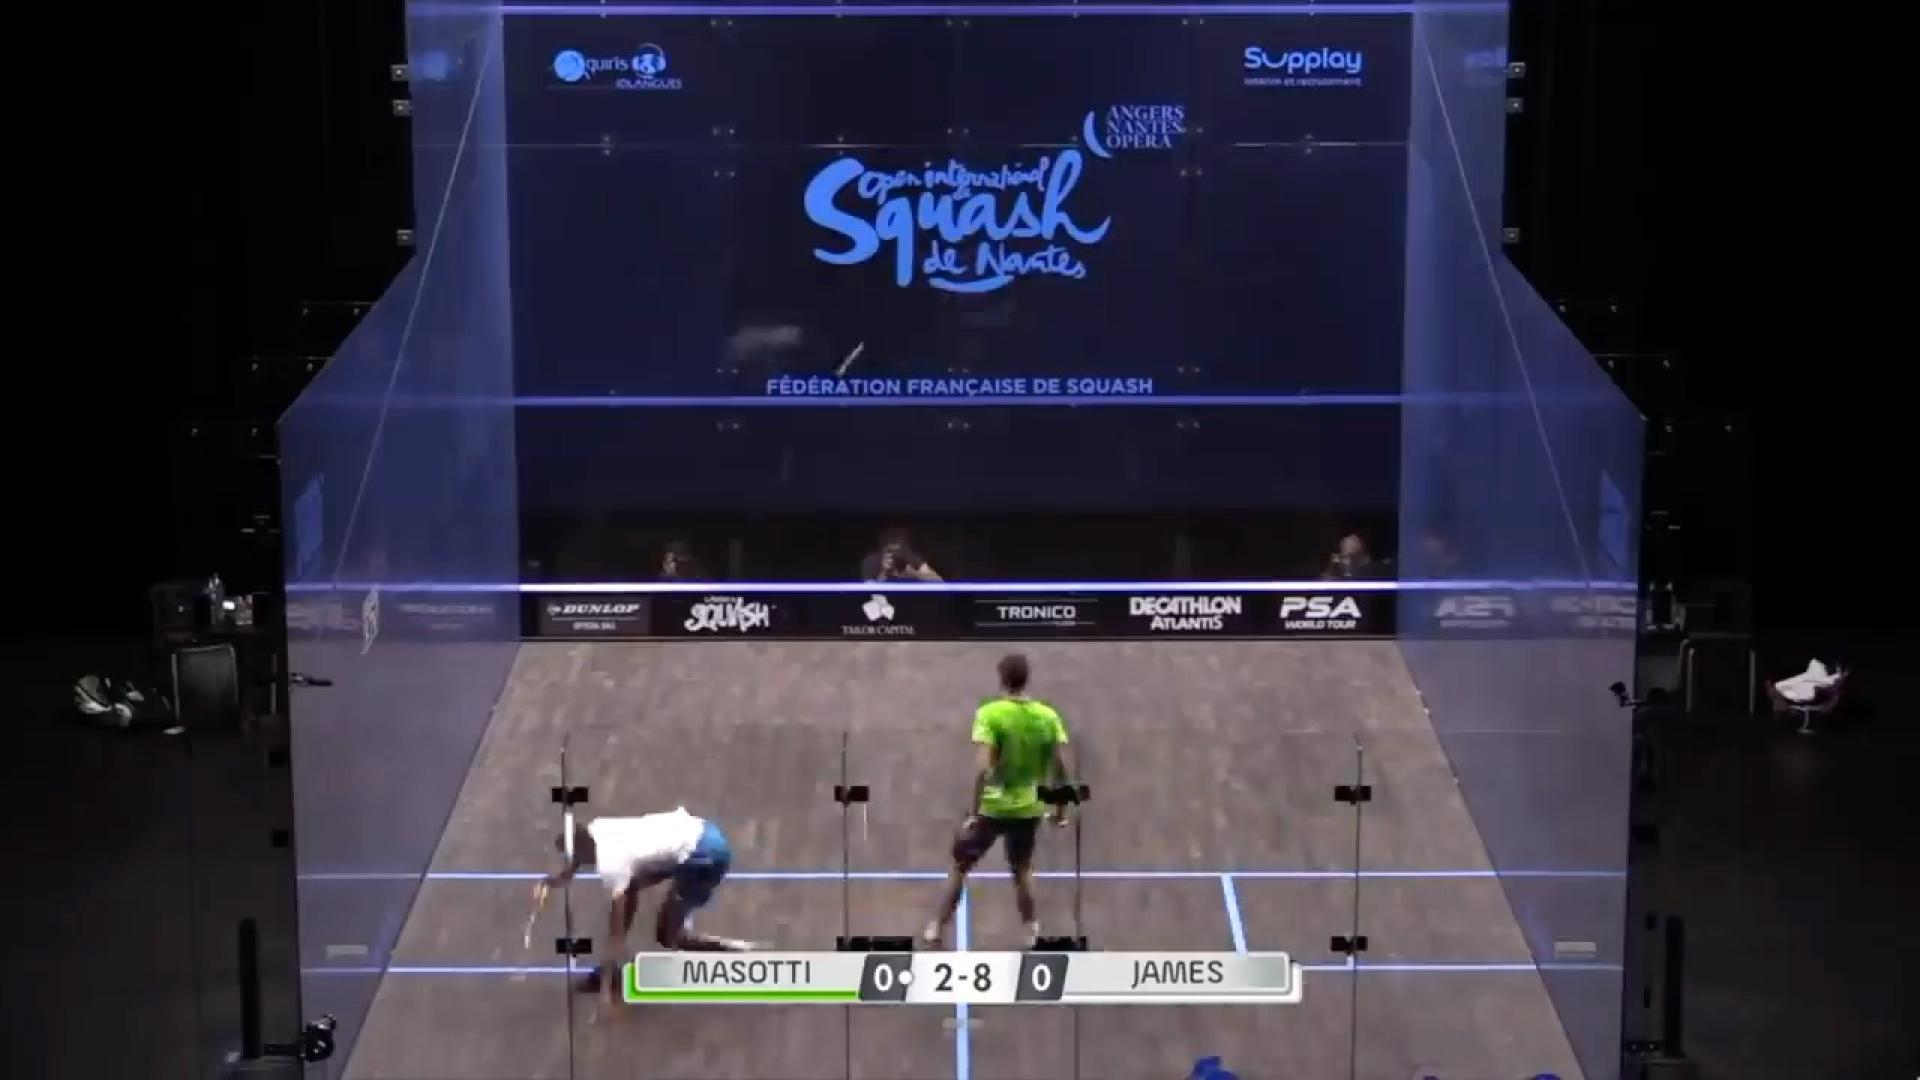Squash-Ball: (823, 326, 901, 407)
